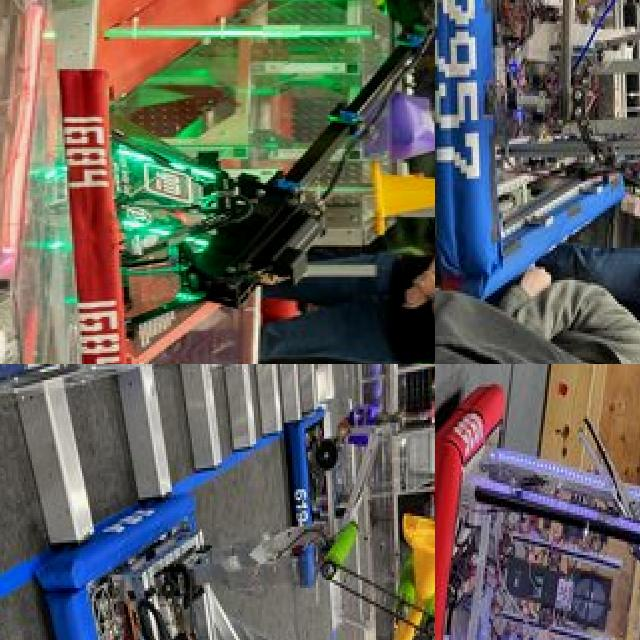FRC-Robots: (9, 0, 435, 364), (435, 0, 640, 326), (435, 376, 640, 640), (51, 505, 435, 640), (276, 392, 435, 640)
